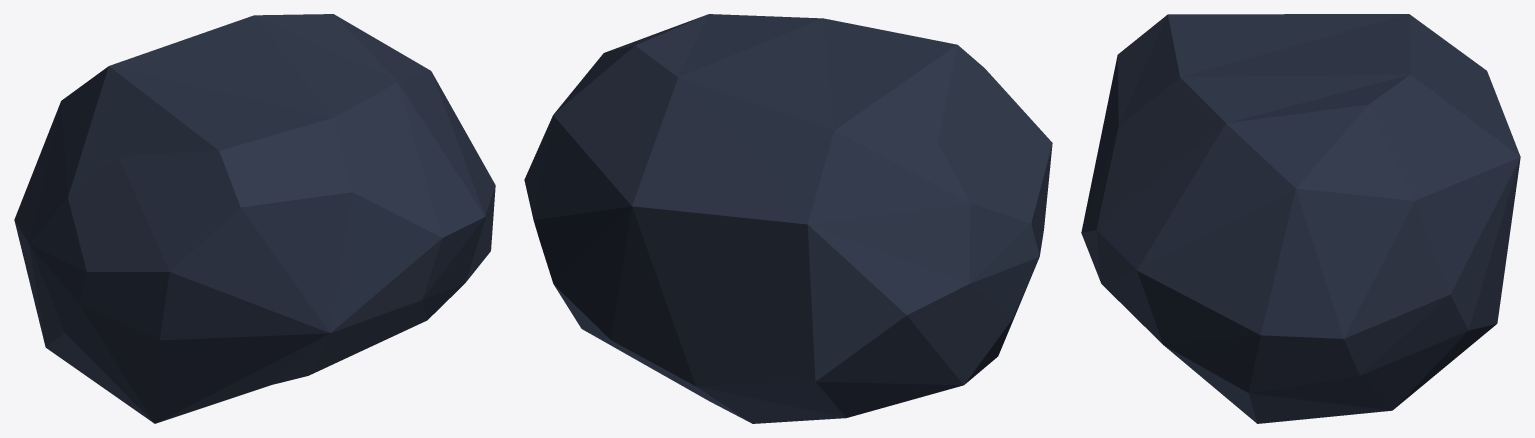
File: Metal.fbx
3 views of the same model, side by side, from view 1: azimuth 30°, elevation 25°; view 2: azimuth 150°, elevation 25°; view 3: azimuth 270°, elevation 25° (orthographic). The views are drawn at different scales.
Visible parts, largest first — view 1: Metal; view 2: Metal; view 3: Metal.
Boxes of the visible parts, x1,y1,x2,y2 form: Metal: (14,14,495,423); Metal: (524,14,1052,423); Metal: (1081,14,1520,423).
Size of the model in its own units: 0.2153 by 0.1471 by 0.1772.
